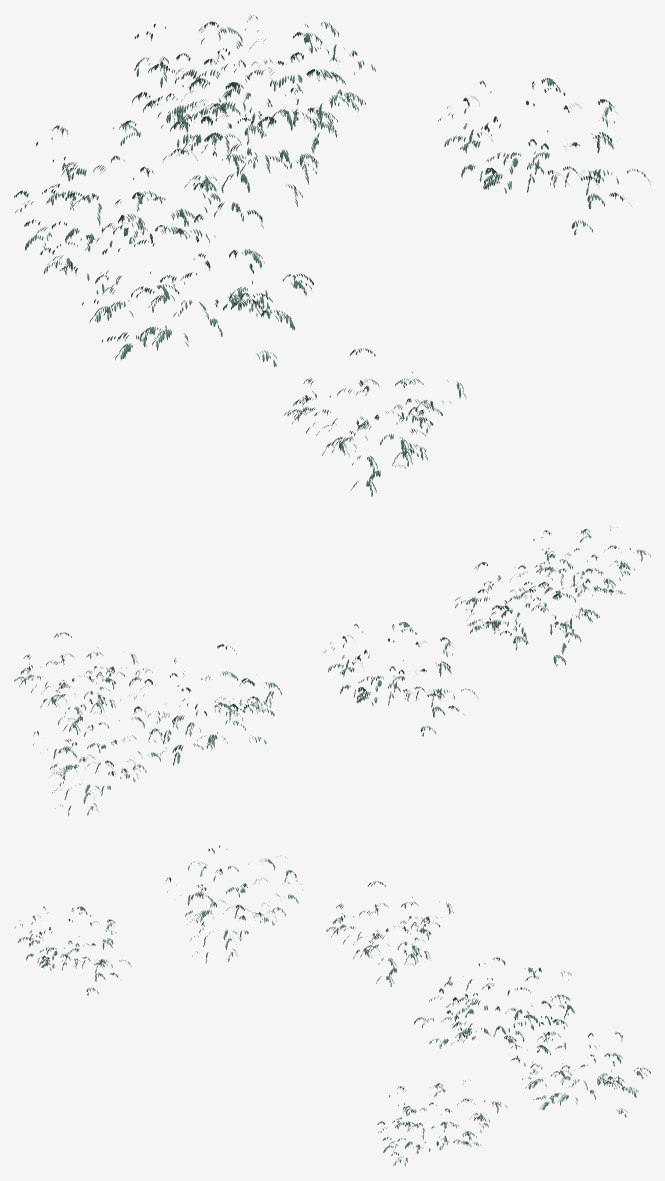
The model's file is eucalyptus--leaf-blue.glb.
The picture shows the model from 3 angles, top to bottom: view 1: azimuth 30°, elevation 25°; view 2: azimuth 150°, elevation 25°; view 3: azimuth 270°, elevation 25°; orthographic projection. The views are drawn at different scales.
Visible parts, largest first — view 1: eucalyptus-2, eucalyptus-4, eucalyptus-1, eucalyptus-6, eucalyptus-3, eucalyptus-5; view 2: eucalyptus-4, eucalyptus-2, eucalyptus-1, eucalyptus-6, eucalyptus-3, eucalyptus-5; view 3: eucalyptus-2, eucalyptus-6, eucalyptus-4, eucalyptus-1, eucalyptus-3, eucalyptus-5.
Boxes of the visible parts, x1,y1,x2,y2 form: eucalyptus-2: (132,14,348,221); eucalyptus-4: (56,210,313,367); eucalyptus-1: (14,114,255,274); eucalyptus-6: (175,21,375,169); eucalyptus-3: (438,78,650,235); eucalyptus-5: (284,348,466,496); eucalyptus-4: (455,559,606,666); eucalyptus-2: (120,644,281,765); eucalyptus-1: (323,622,477,736); eucalyptus-6: (33,702,166,815); eucalyptus-3: (14,632,138,734); eucalyptus-5: (518,527,650,612); eucalyptus-2: (414,957,575,1055); eucalyptus-6: (511,1031,650,1117); eucalyptus-4: (165,845,302,962); eucalyptus-1: (326,881,453,986); eucalyptus-3: (377,1080,507,1166); eucalyptus-5: (14,906,131,995).
Size of the model in its own units: 37.95 by 12.07 by 49.77.
